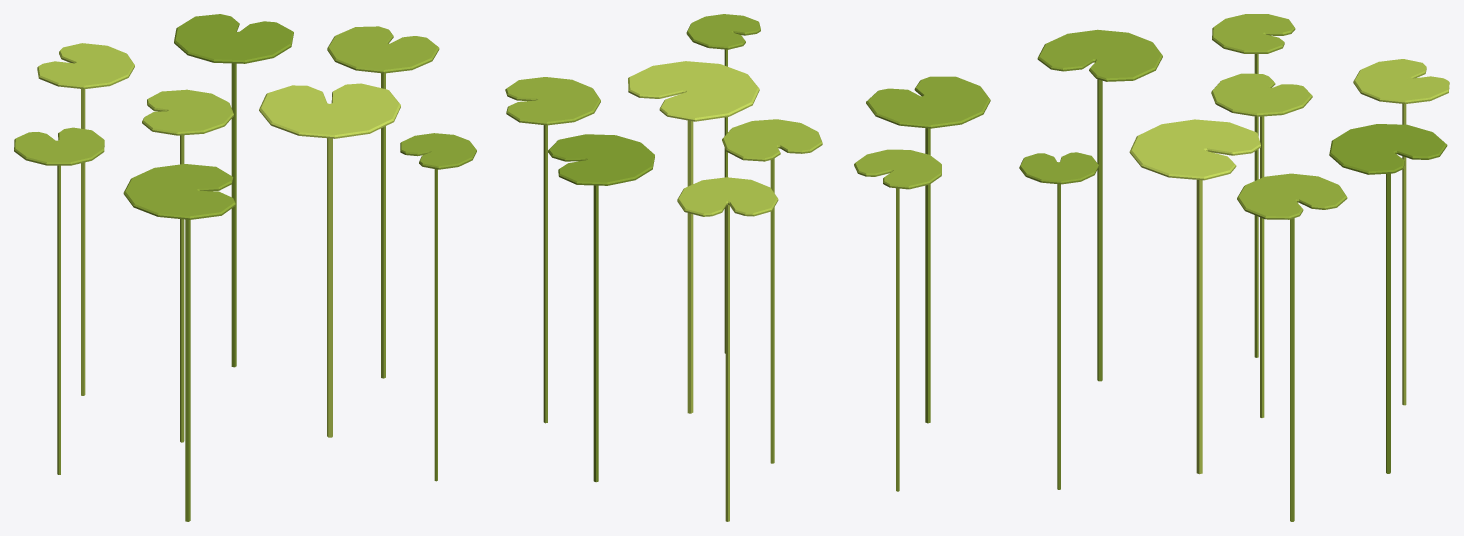
The model's file is NHP_LilyPad_LP_Cluster_A1_02.fbx.
3 views of the same model, side by side, from view 1: azimuth 30°, elevation 25°; view 2: azimuth 150°, elevation 25°; view 3: azimuth 270°, elevation 25° (orthographic). The views are drawn at different scales.
Visible parts, largest first — view 1: NHP_LilyPad_LP_Cluster_A1_02_LOD0; view 2: NHP_LilyPad_LP_Cluster_A1_02_LOD0; view 3: NHP_LilyPad_LP_Cluster_A1_02_LOD0.
Boxes of the visible parts, bbox=[...] form: NHP_LilyPad_LP_Cluster_A1_02_LOD0: bbox=[14, 14, 476, 521]; NHP_LilyPad_LP_Cluster_A1_02_LOD0: bbox=[505, 14, 990, 521]; NHP_LilyPad_LP_Cluster_A1_02_LOD0: bbox=[1019, 14, 1449, 521].
Size of what is drawn, in the model's own units: 2.7 by 2.01 by 2.42.
